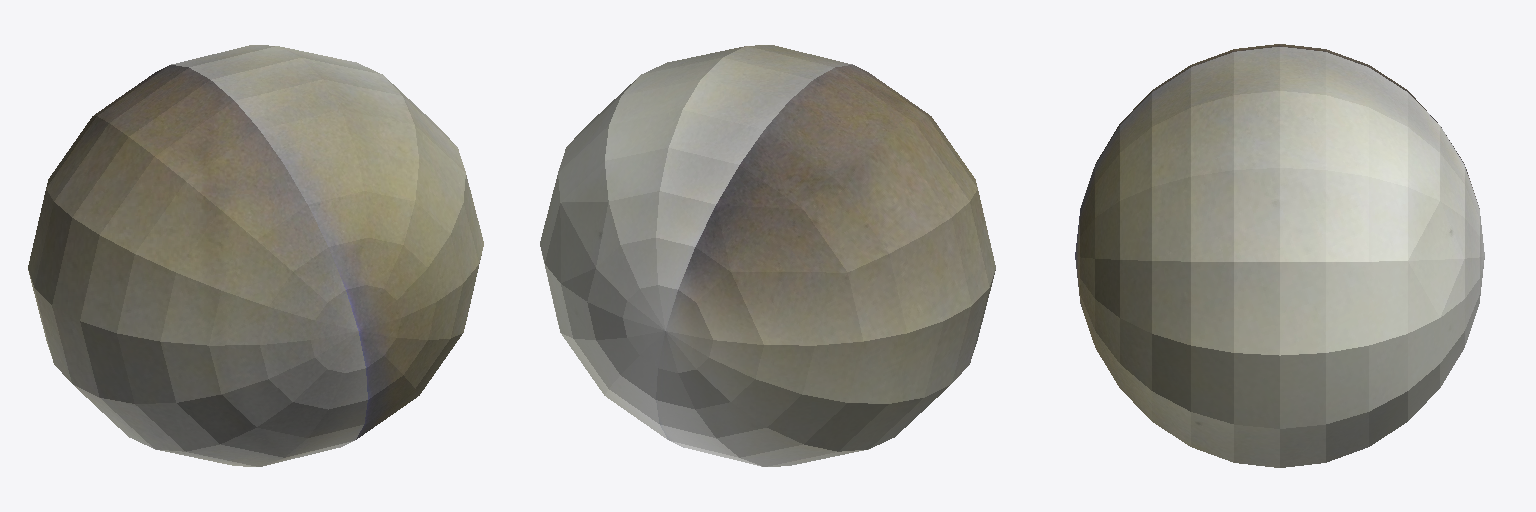
3 renders of one model, left to right at view 1: azimuth 30°, elevation 25°; view 2: azimuth 150°, elevation 25°; view 3: azimuth 270°, elevation 25°, orthographic.
Size of the model in its own units: 2 by 1.75 by 1.74.
1 materials, 1 textured.